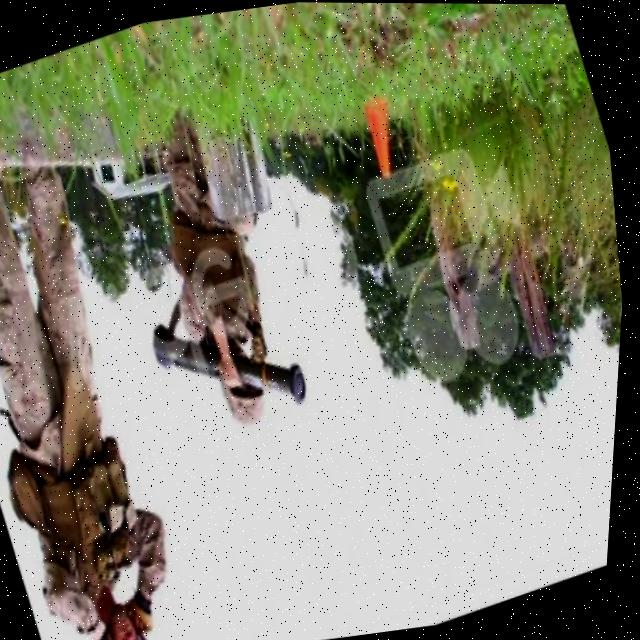rocket: (140, 277, 329, 454)
